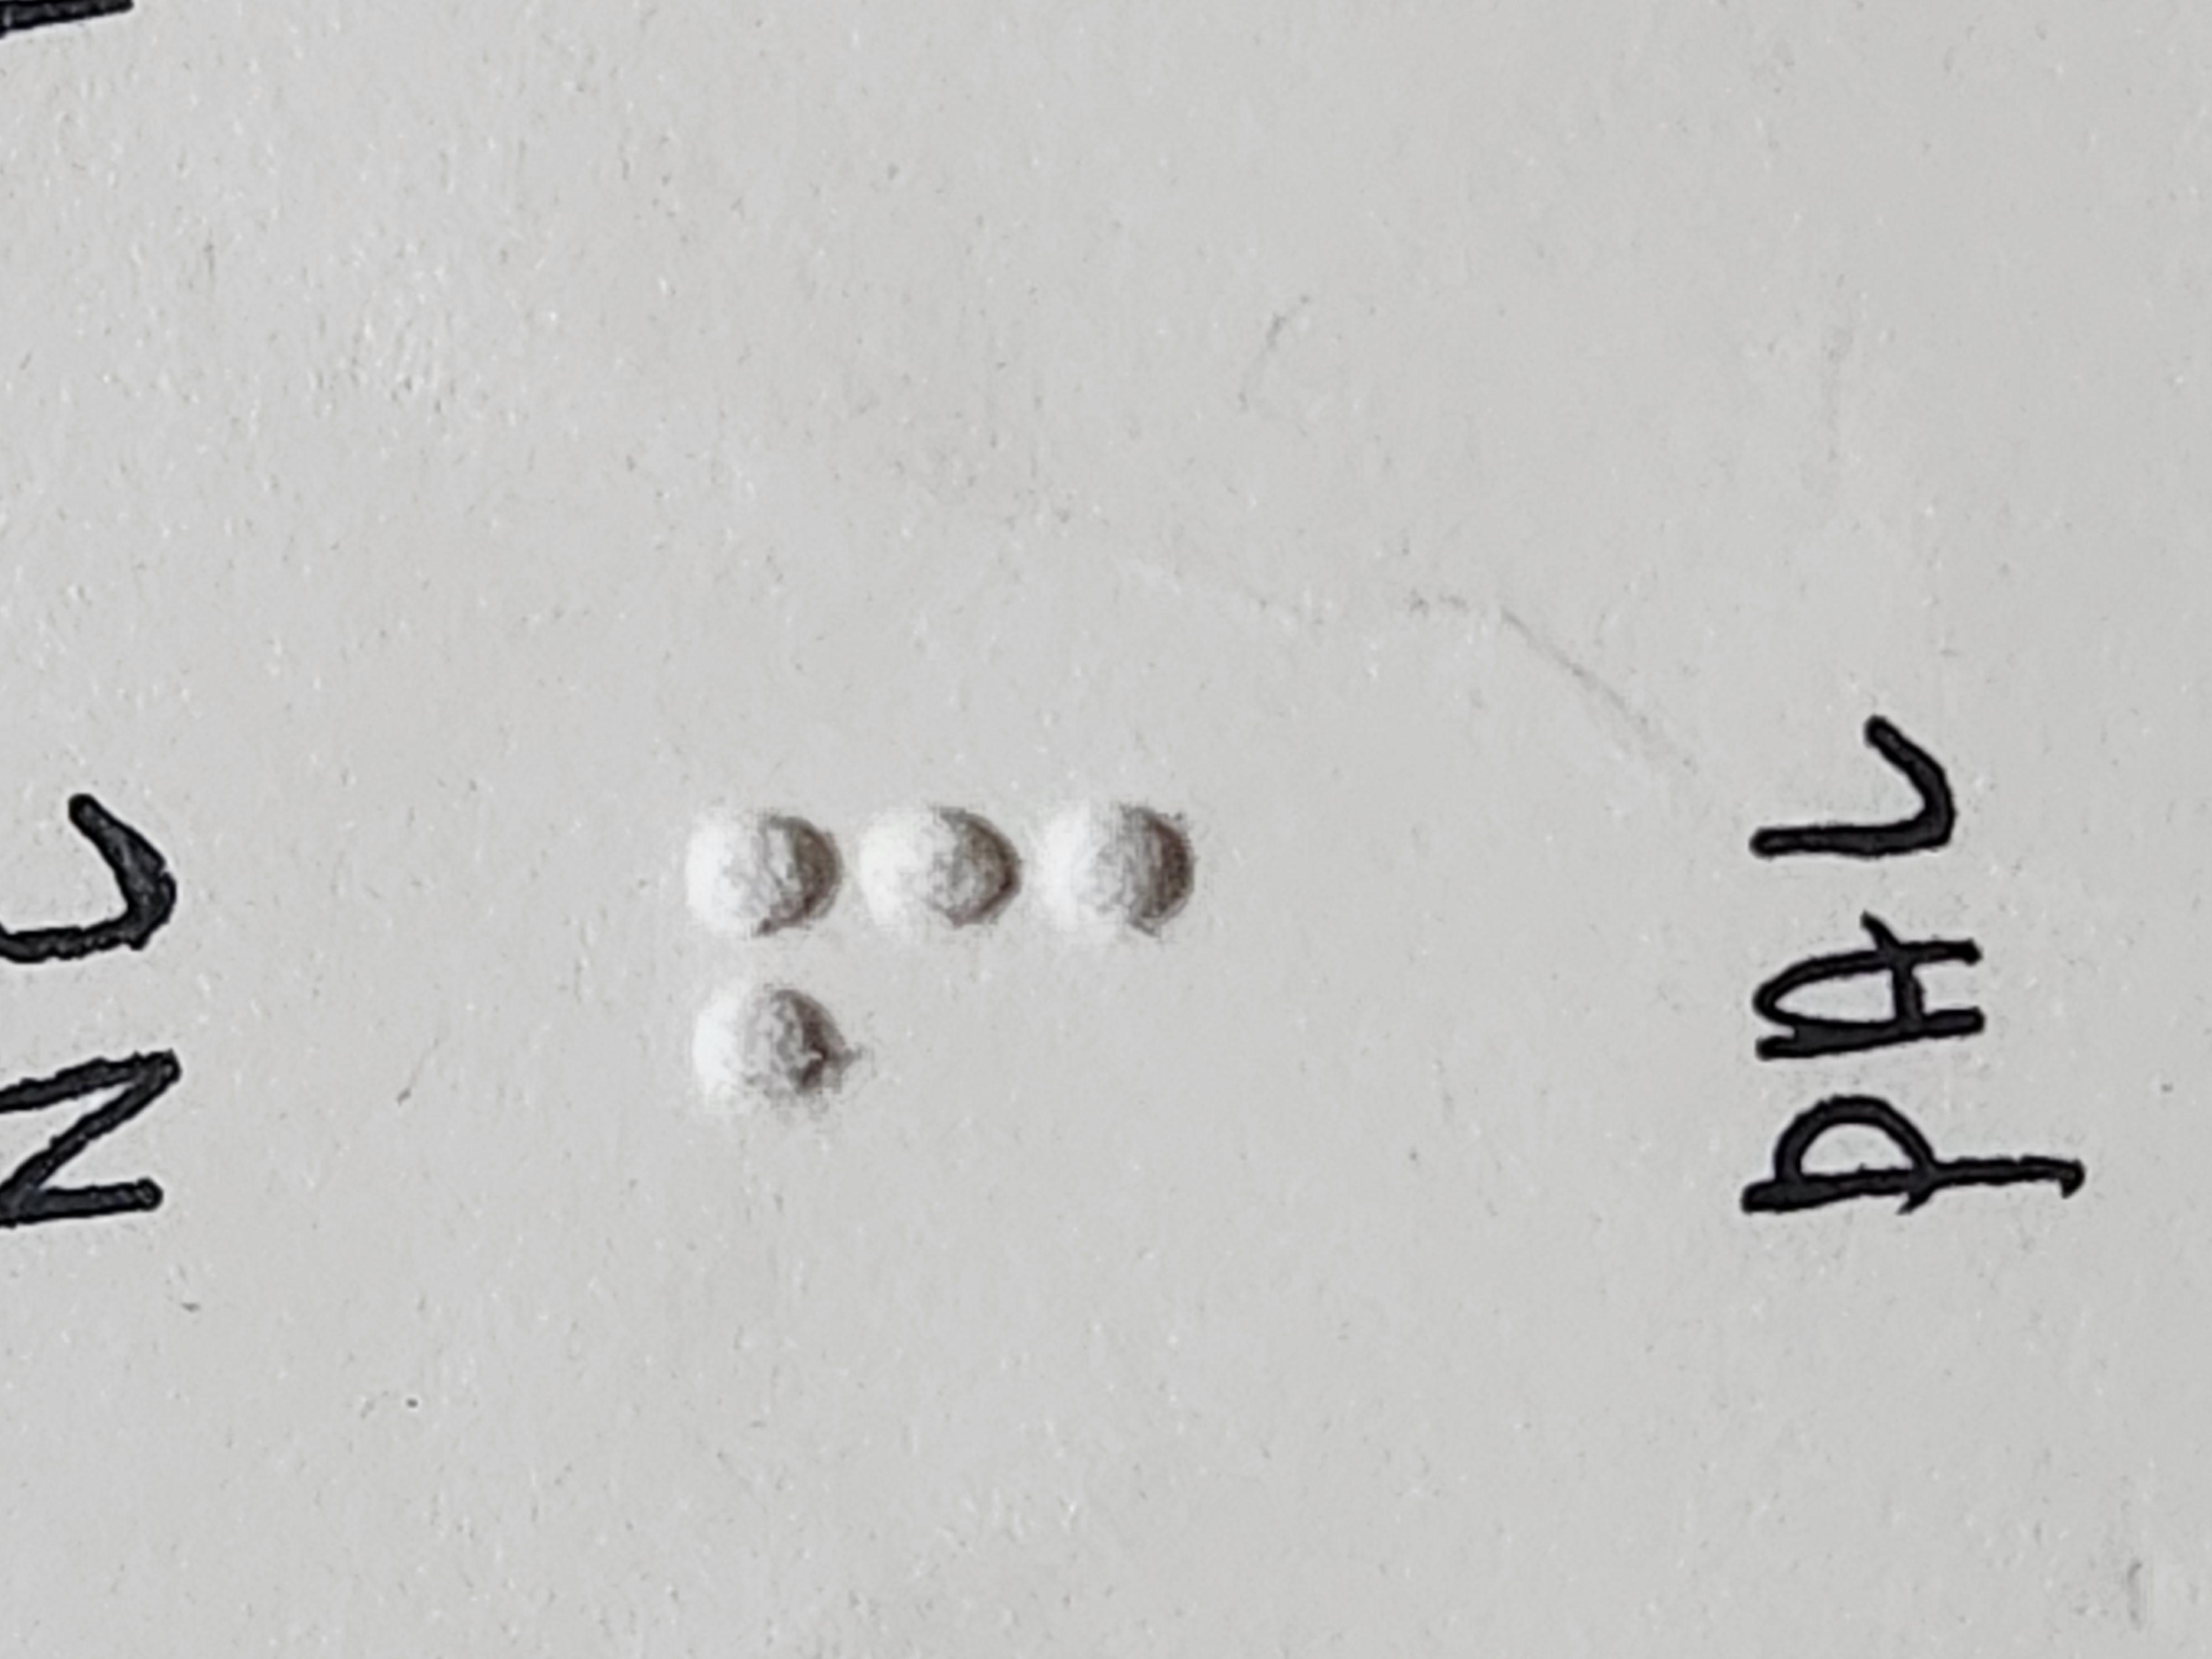one_cell_part_word_pag: (738, 516, 1144, 892)
